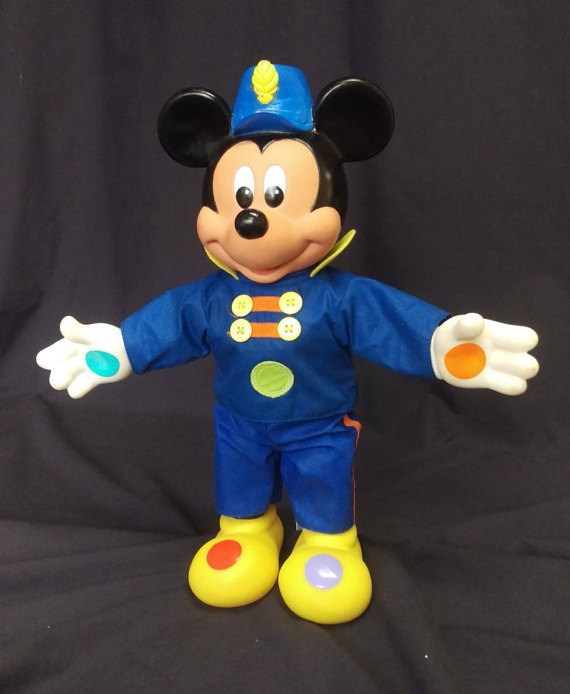Mickey: (153, 62, 399, 289)
